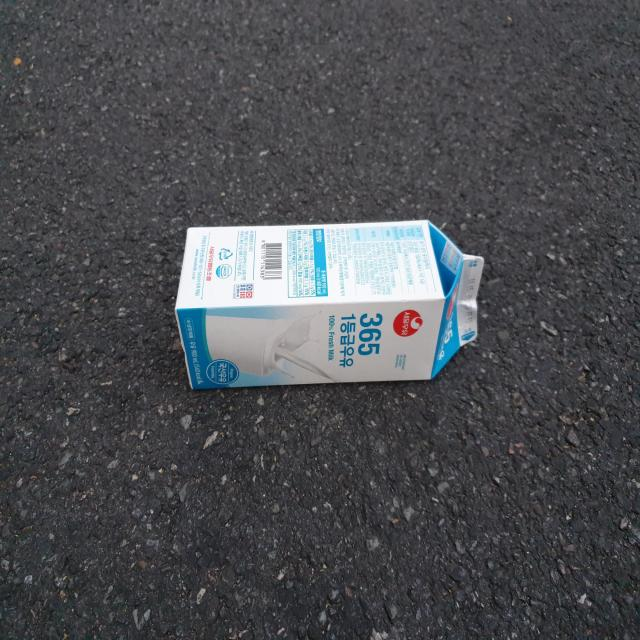paperpack: (175, 220, 484, 389)
